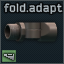Remington M700 AB Arms buffer tube side folder adapter: (0, 0, 64, 64)
